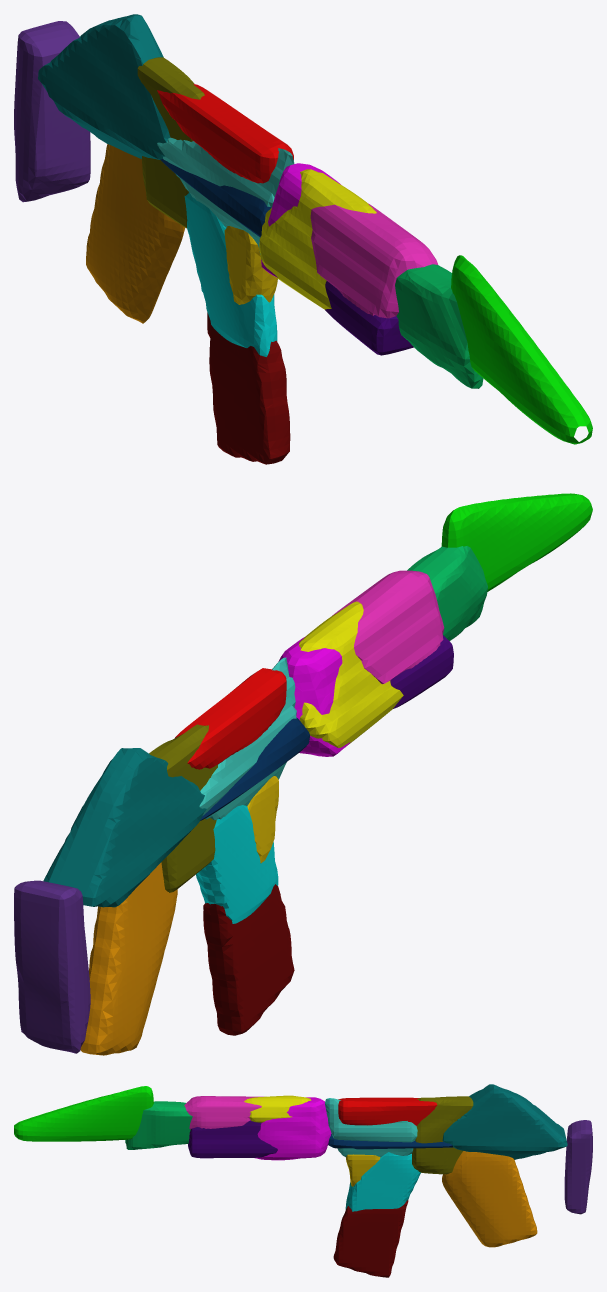
3 renders of one model, top to bottom at view 1: azimuth 30°, elevation 25°; view 2: azimuth 150°, elevation 25°; view 3: azimuth 270°, elevation 25°, orthographic. The views are drawn at different scales.
Parts seen in each view (by area): view 1: 2e5436e635dc4336984c76a5f92c7141_l01; view 2: 2e5436e635dc4336984c76a5f92c7141_l01; view 3: 2e5436e635dc4336984c76a5f92c7141_l01.
Boxes of the visible parts, x1=… form: 2e5436e635dc4336984c76a5f92c7141_l01: x1=14, y1=14, x2=592, y2=464; 2e5436e635dc4336984c76a5f92c7141_l01: x1=14, y1=493, x2=592, y2=1055; 2e5436e635dc4336984c76a5f92c7141_l01: x1=14, y1=1084, x2=592, y2=1277.
Size of the model in its own units: 0.1607 by 0.7201 by 1.98.
